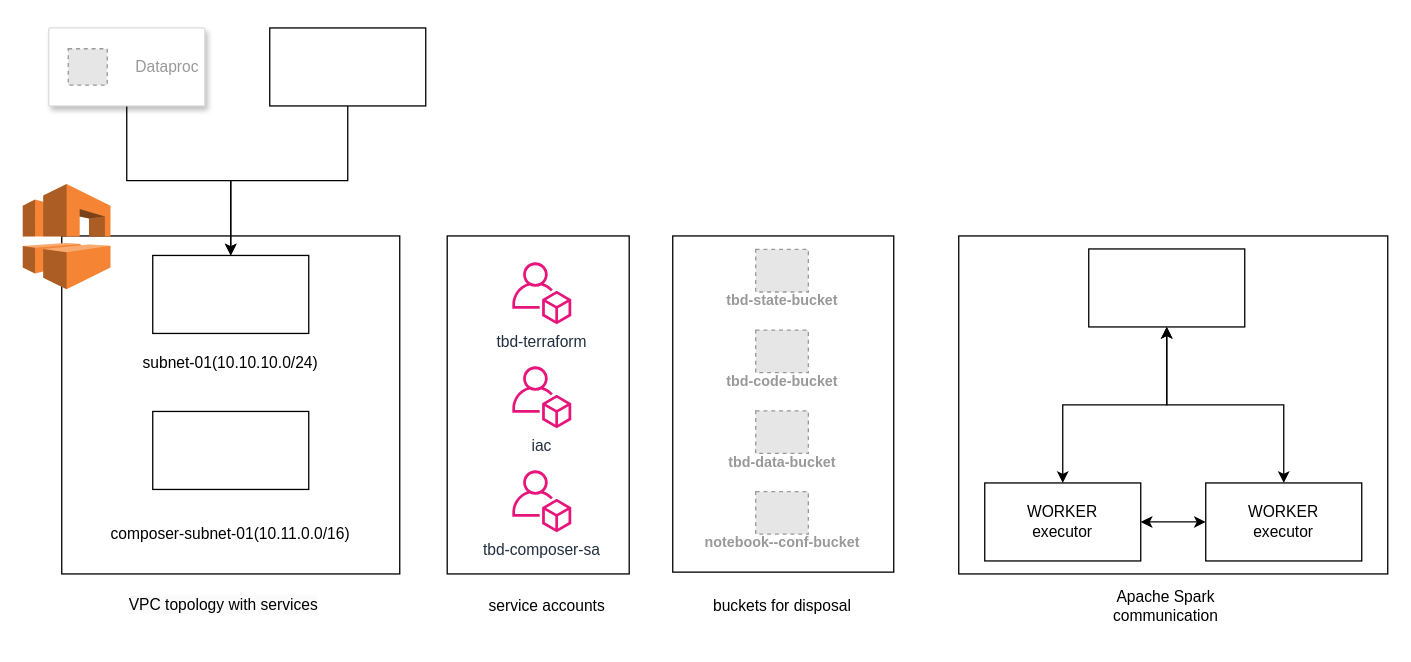
Some shapes in this 1411 by 662 pixel diagram are drawn without their labels. Grey dashed boxes stand in for pictures. The centre of each missing label's shape, as x and y in pixels:
MASTER:16384 driver: (x=1166, y=287)
Vertex Workbench: (x=347, y=66)
